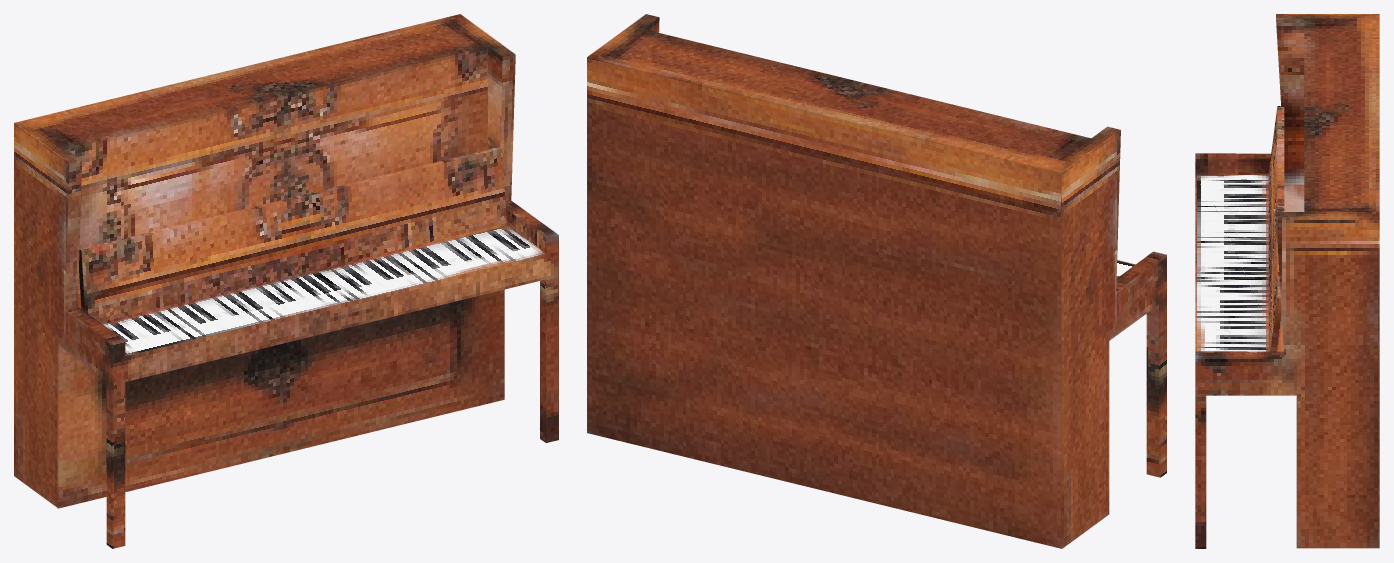
Rendered from Piano_Var_1.gltf.
3 views of the same model, side by side, from view 1: azimuth 30°, elevation 25°; view 2: azimuth 150°, elevation 25°; view 3: azimuth 270°, elevation 25° (orthographic). The views are drawn at different scales.
Visible parts, largest first — view 1: Piano_Var_1; view 2: Piano_Var_1; view 3: Piano_Var_1.
Part boxes in pixels (box(x1,y1,x2,y2)): Piano_Var_1: box(14, 14, 558, 548); Piano_Var_1: box(587, 14, 1166, 548); Piano_Var_1: box(1195, 14, 1379, 548).
Size of the model in its own units: 4.29 by 3.26 by 1.64.
1 material, 1 textured.
